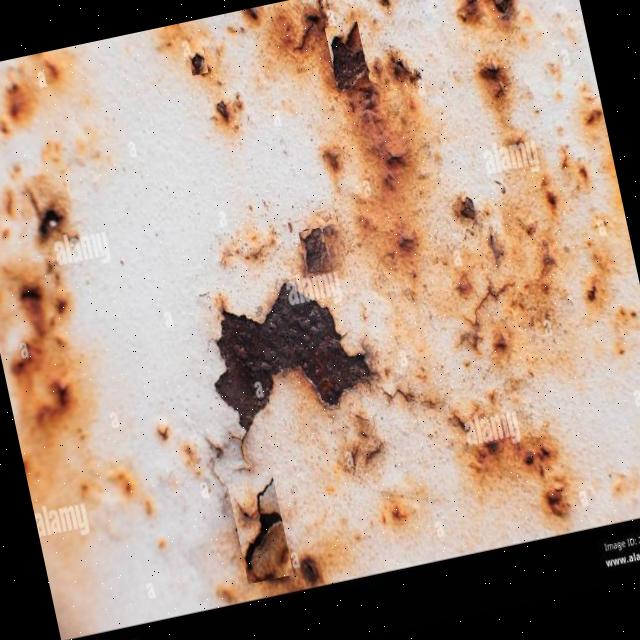Corrosion: (0, 0, 640, 639), (194, 264, 383, 439)
